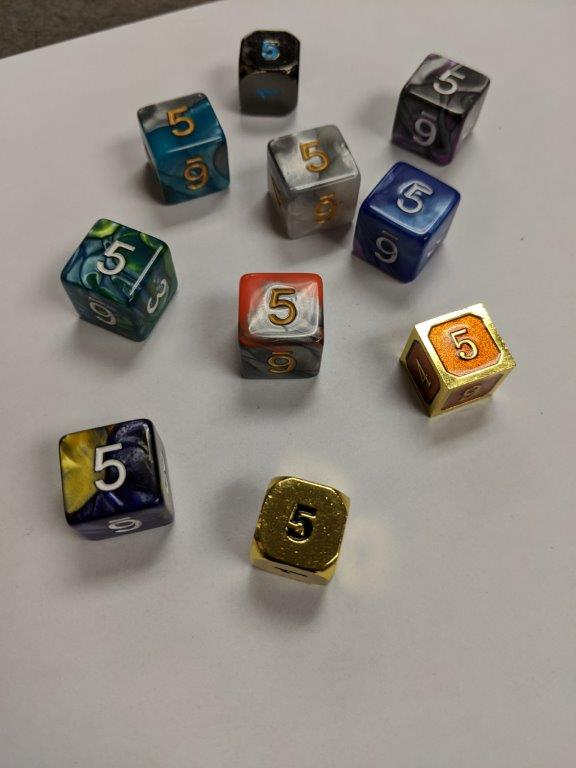d6-5: (61, 217, 181, 346), (55, 418, 174, 537), (354, 156, 458, 286), (402, 302, 515, 417), (392, 45, 493, 169), (133, 91, 233, 211), (246, 476, 353, 588), (269, 122, 361, 249), (238, 272, 324, 383), (236, 27, 302, 120)
